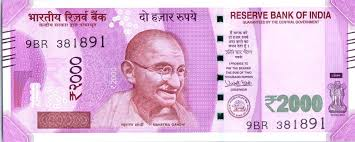twoThousand: (25, 26, 339, 123)
